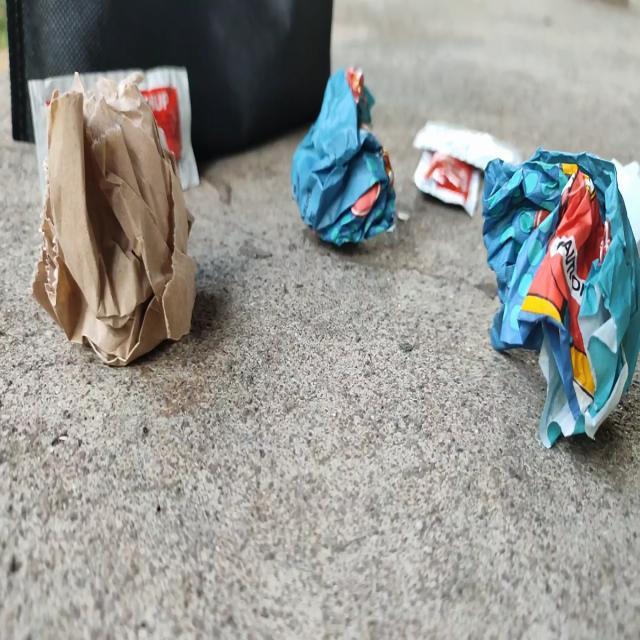paper: (482, 141, 640, 454), (35, 90, 204, 362), (277, 46, 407, 265), (602, 123, 640, 249)
